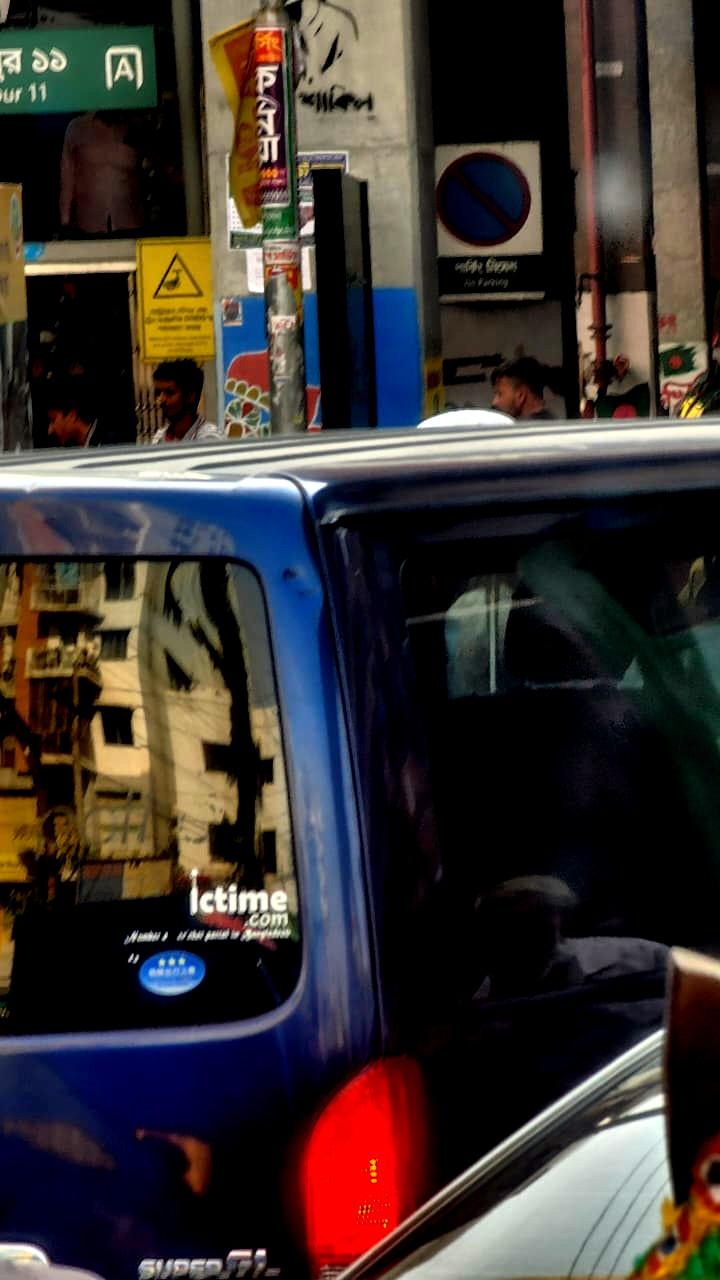No Parking: (434, 128, 563, 302)
